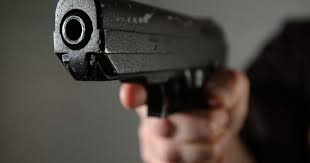gun: (50, 1, 248, 163)
